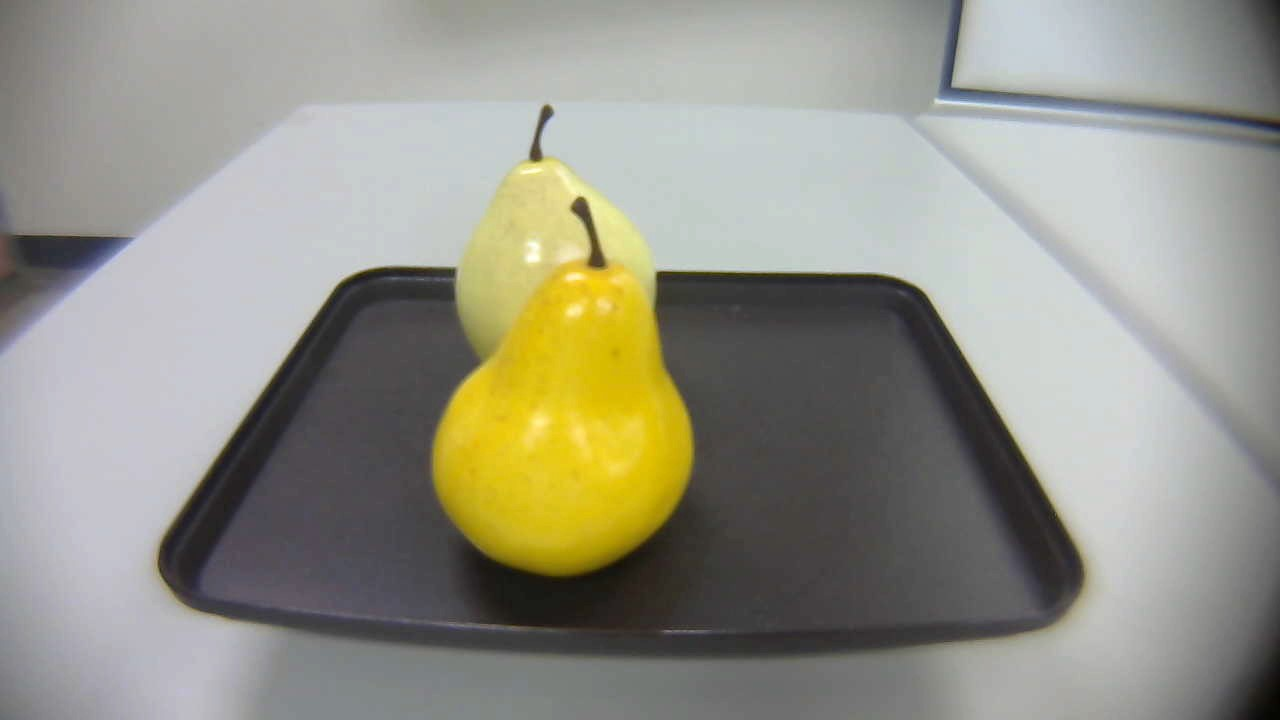western pear: (452, 98, 667, 392)
yellow pear: (414, 198, 712, 571)
